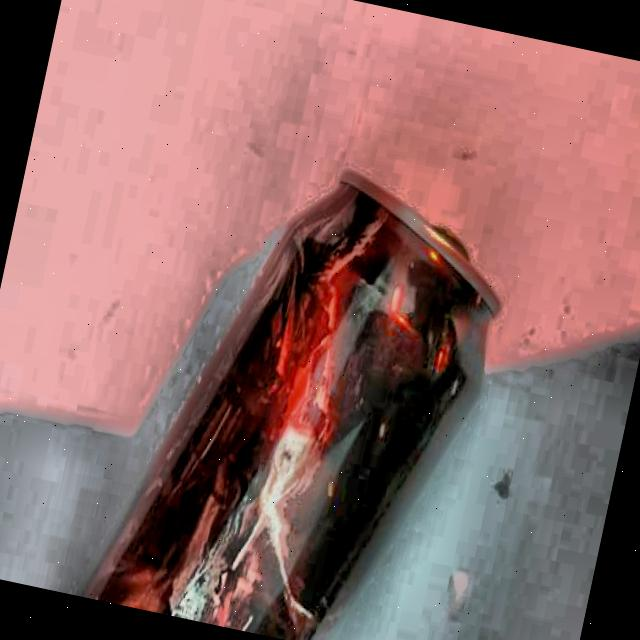metal: (70, 130, 524, 640)
